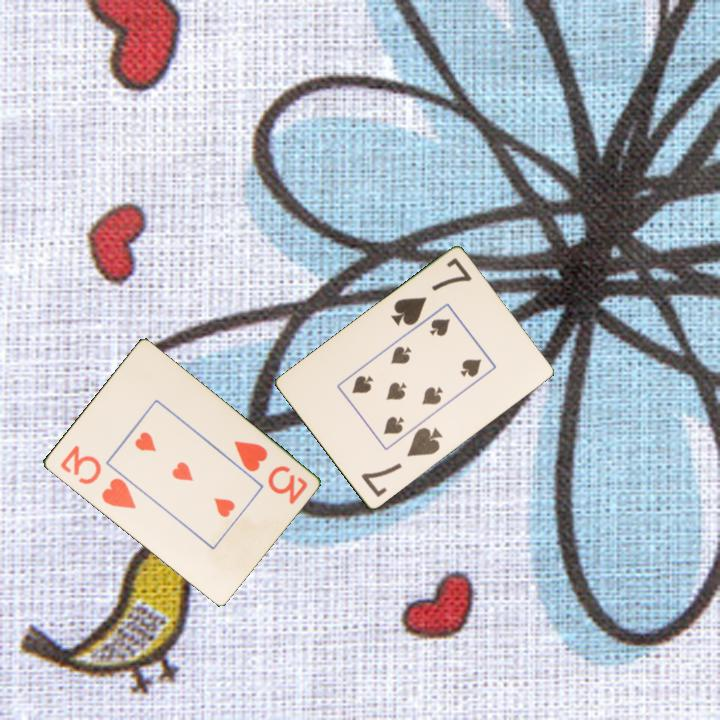3h: (56, 441, 138, 512), (230, 437, 310, 508)
7s: (357, 424, 446, 501), (387, 254, 475, 329)
